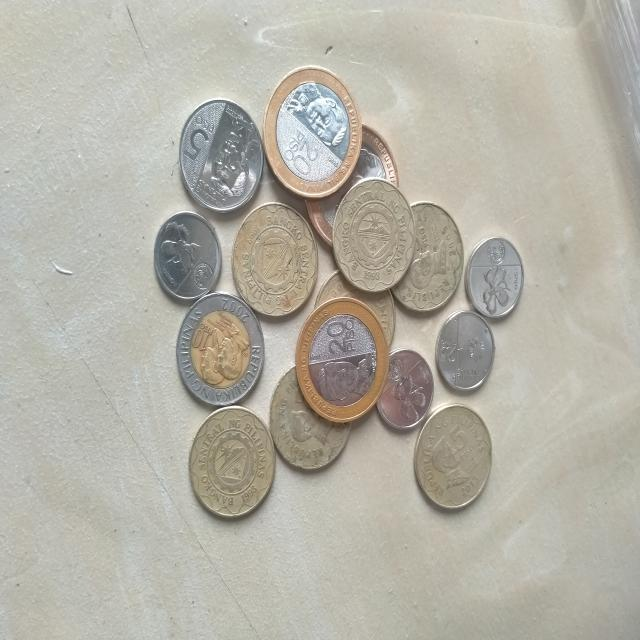20_New_Front: (280, 123, 322, 182), (320, 312, 360, 359)
25Cent_New_Back: (158, 218, 199, 277), (480, 262, 518, 314), (393, 372, 427, 423)
25Cent_New_Front: (438, 329, 458, 365)
5_New_Front: (181, 107, 217, 163)
5_Old_Back: (234, 203, 316, 316), (187, 407, 273, 514), (336, 182, 415, 284)
5_Old_Front: (447, 424, 480, 465)
